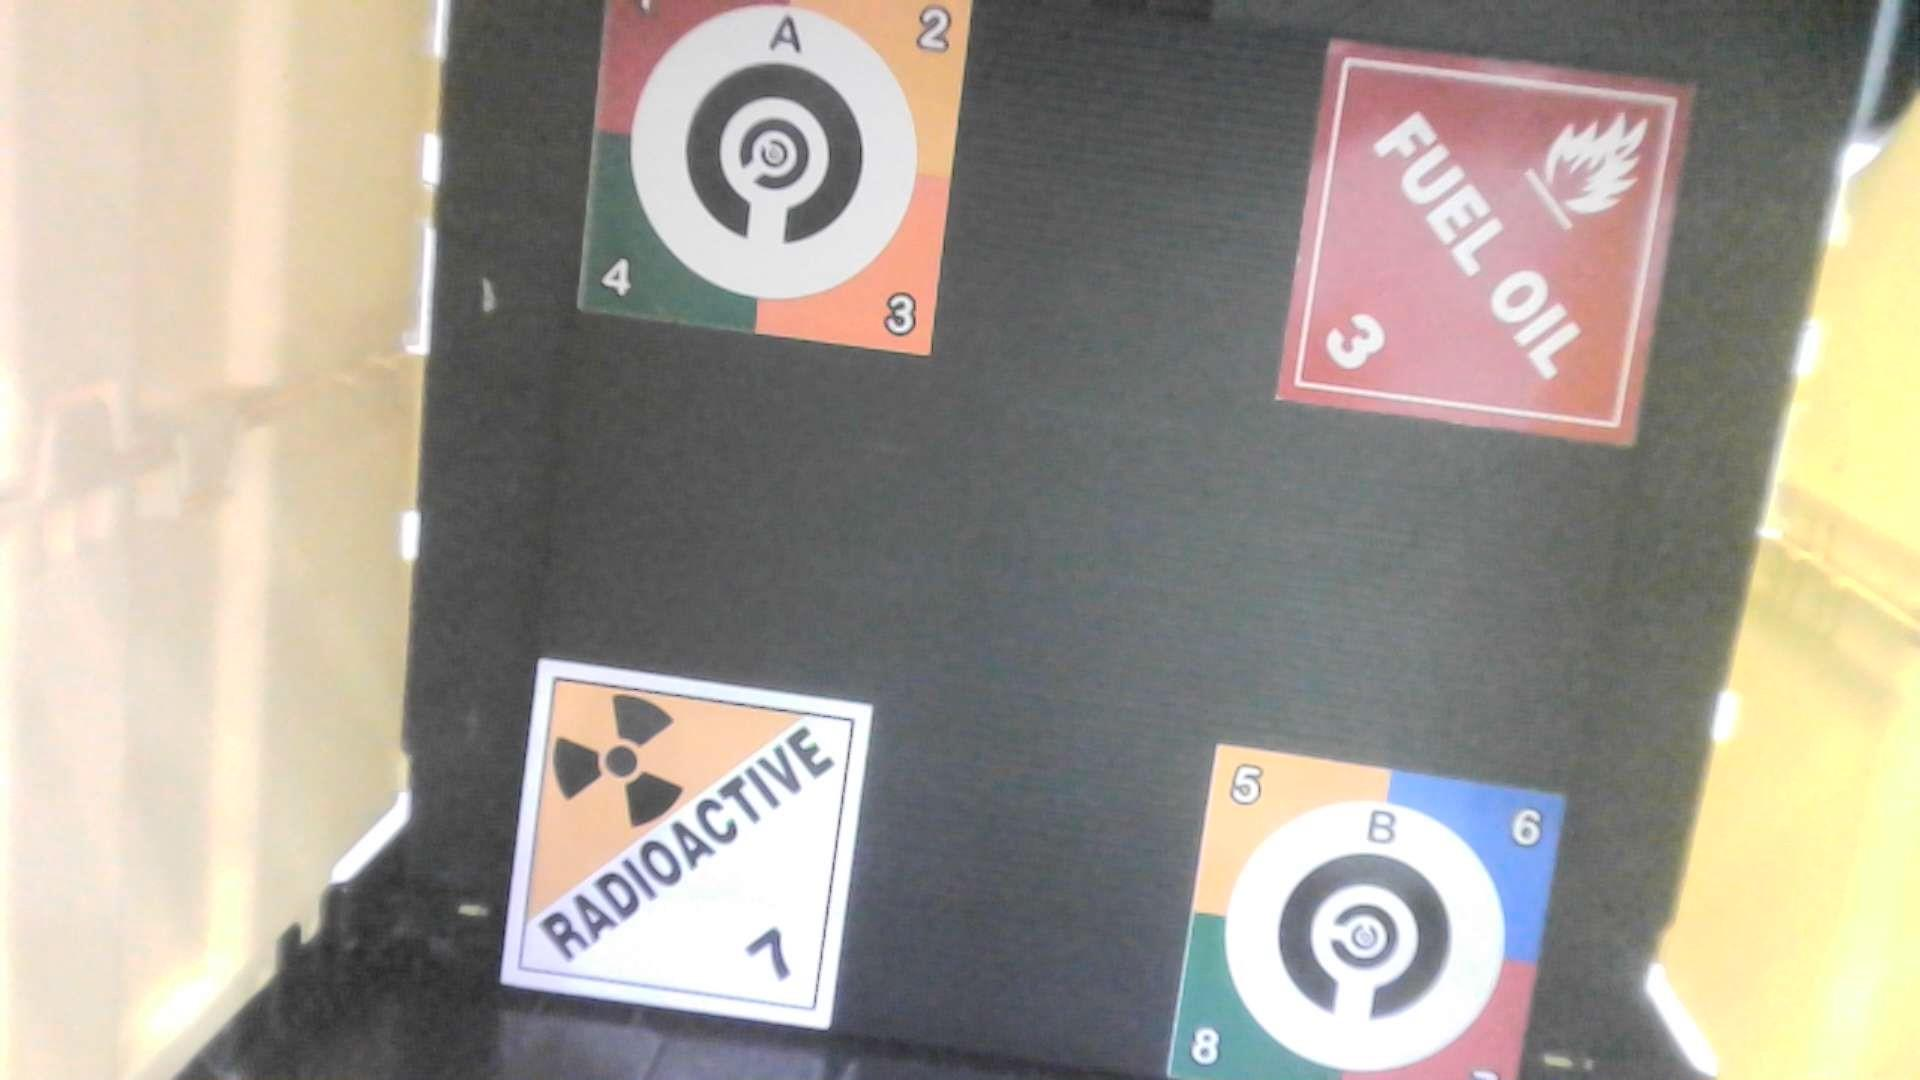flammable: (1265, 22, 1702, 477)
radioactive: (484, 640, 878, 1046)
